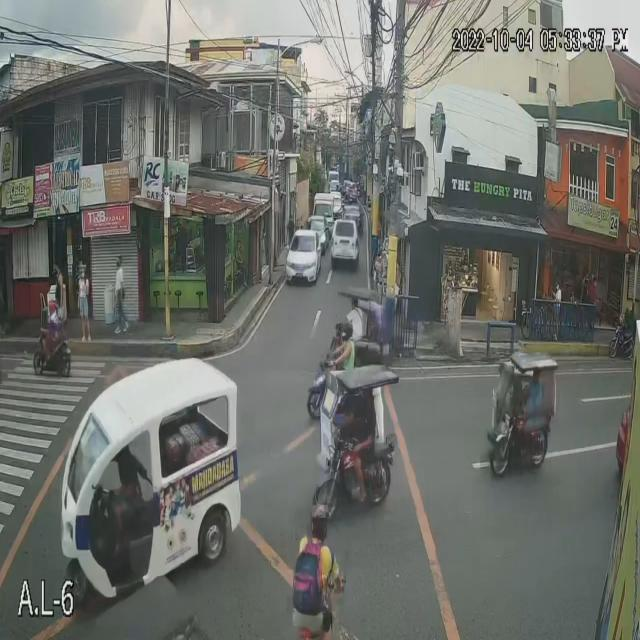full: (338, 321, 354, 343)
